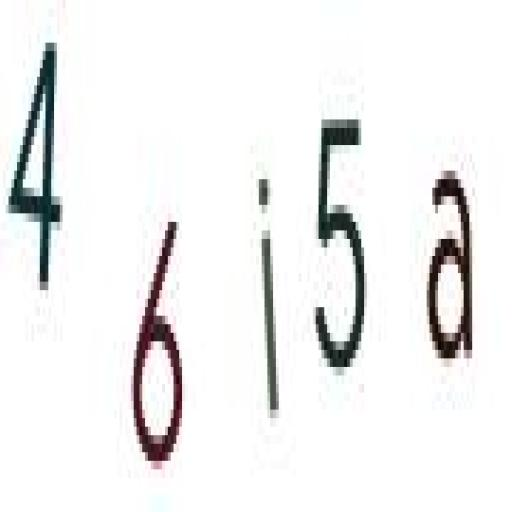4: (1, 23, 70, 307)
5: (305, 102, 368, 384)
6: (124, 196, 188, 482)
a: (424, 156, 481, 378)
i: (255, 158, 282, 438)
